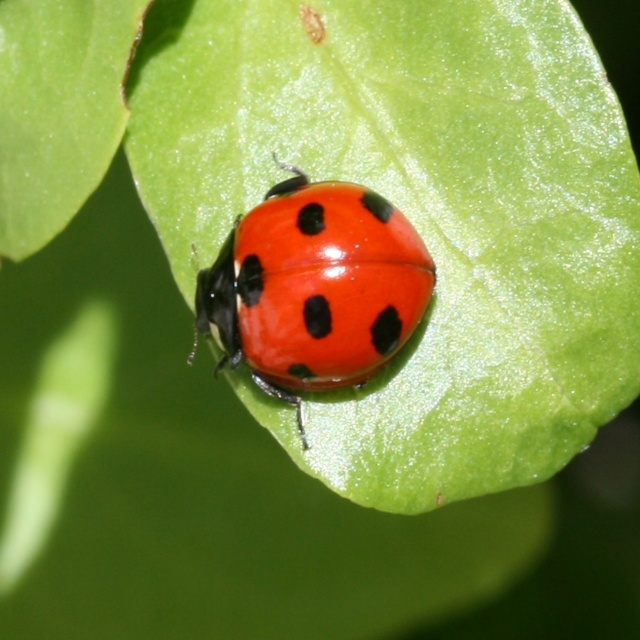Ladybug: (184, 154, 436, 451)
